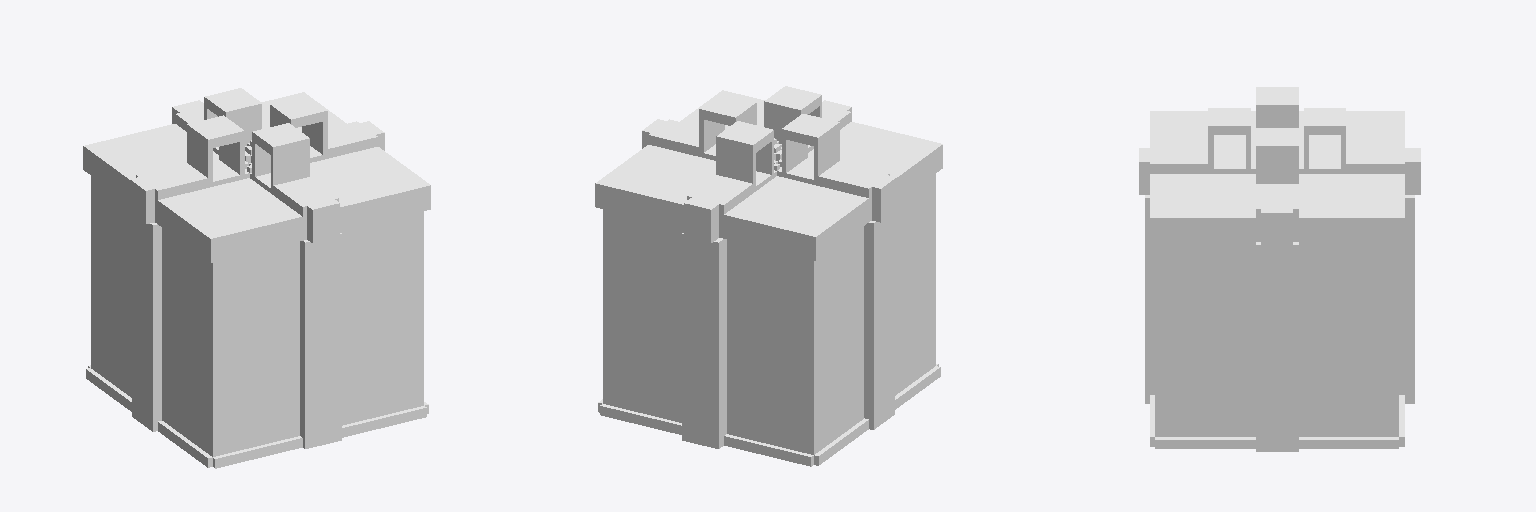
Rendered from gift_box_white.obj.
3 renders of one model, left to right at view 1: azimuth 30°, elevation 25°; view 2: azimuth 150°, elevation 25°; view 3: azimuth 270°, elevation 25°, orthographic.
Parts seen in each view (by area): view 1: object 1; view 2: object 1; view 3: object 1.
Boxes of the visible parts, <box> form: object 1: <box>83,88,430,468</box>; object 1: <box>595,86,942,466</box>; object 1: <box>1139,87,1420,451</box>.
Size of the model in its own units: 5.2 by 5.8 by 5.3.